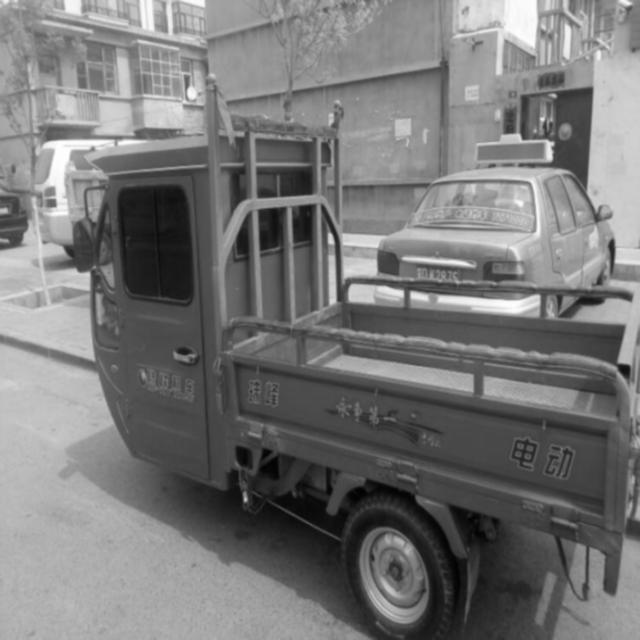car: (371, 134, 617, 321), (32, 135, 153, 257), (0, 188, 29, 245)
tricycle: (71, 72, 639, 638)
